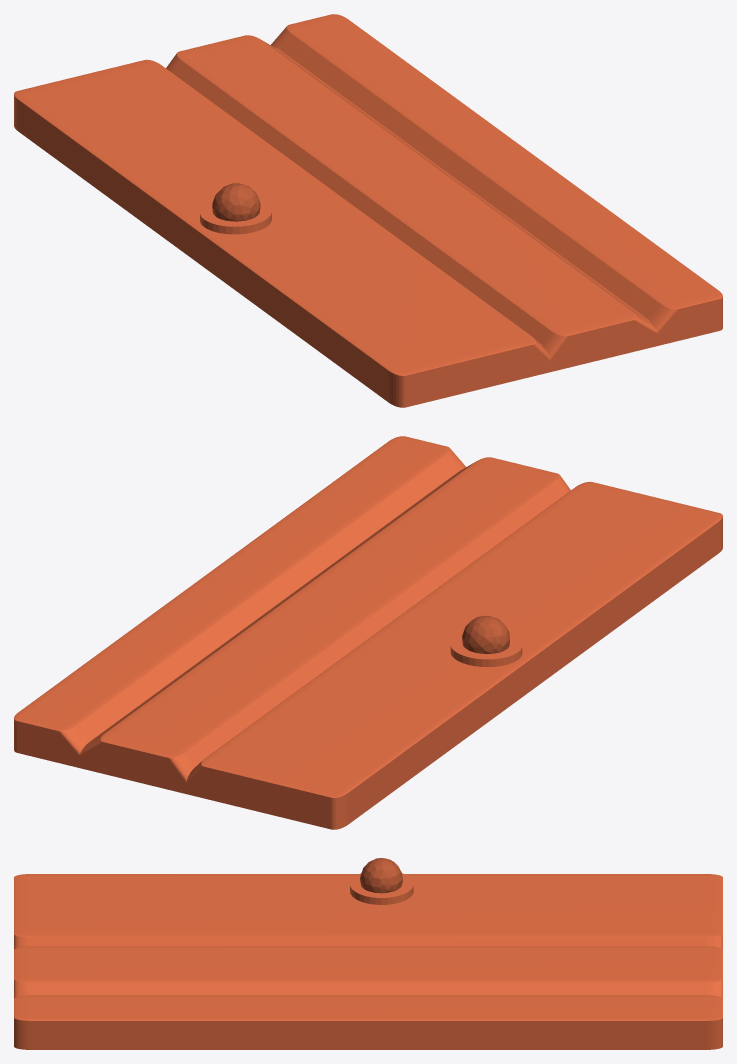
Rendered from puerta der.fbx.
3 renders of one model, top to bottom at view 1: azimuth 30°, elevation 25°; view 2: azimuth 150°, elevation 25°; view 3: azimuth 270°, elevation 25°, orthographic. The views are drawn at different scales.
Visible parts, largest first — view 1: Puerta der; view 2: Puerta der; view 3: Puerta der.
Boxes of the visible parts, x1,y1,x2,y2 form: Puerta der: [14, 14, 722, 407]; Puerta der: [14, 436, 722, 829]; Puerta der: [14, 858, 722, 1049].
Bounding box in the file's own units: 187 × 36.42 × 381.
